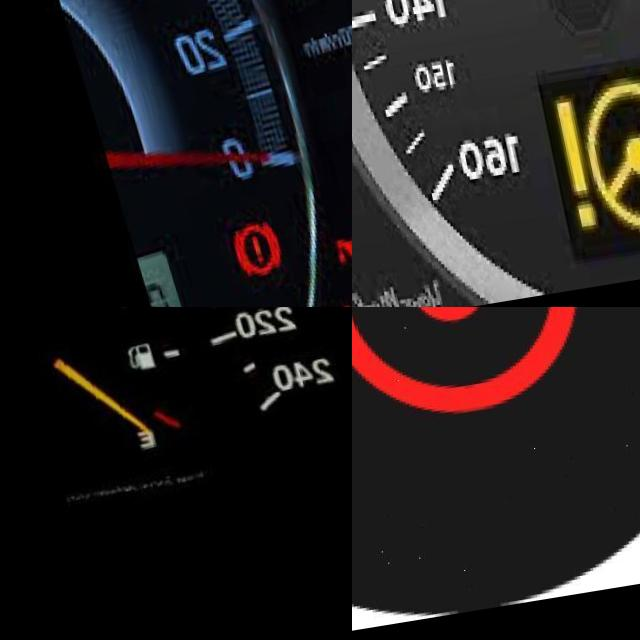Electronic Power Steering: (532, 82, 640, 248)
Electronic Power Steering Warning: (352, 307, 584, 449)
Low fuel level: (115, 349, 153, 390)
